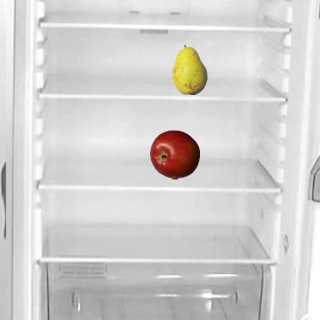Apple Braeburn: (149, 129, 199, 179)
Pear Monster: (164, 44, 214, 94)
